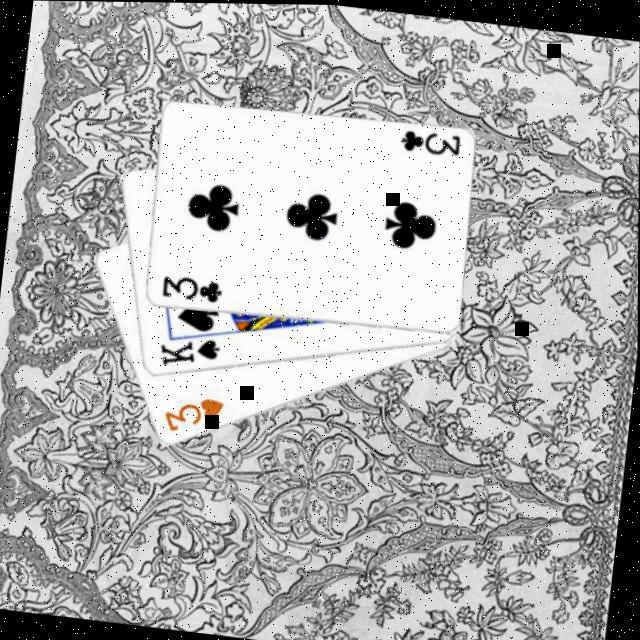3C: (158, 270, 227, 306), (397, 122, 464, 158)
3H: (160, 388, 228, 439)
KS: (155, 328, 225, 374)
